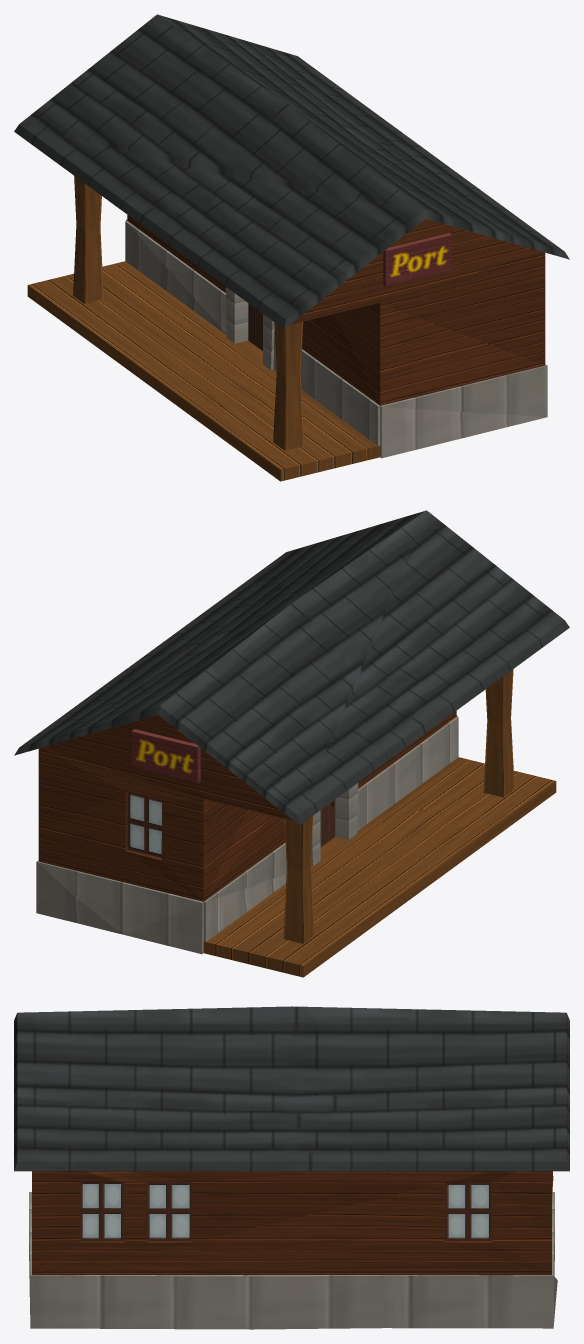
The model's file is co_Port.fbx.
The picture shows the model from 3 angles, top to bottom: view 1: azimuth 30°, elevation 25°; view 2: azimuth 150°, elevation 25°; view 3: azimuth 270°, elevation 25°; orthographic projection. The views are drawn at different scales.
Parts seen in each view (by area): view 1: Port_LOD0, PortSign2 (×2); view 2: Port_LOD0, PortSign1 (×2); view 3: Port_LOD0.
Boxes of the visible parts, box(x1,y1,x2,y2) form: Port_LOD0: box(14, 14, 569, 481); PortSign2 (×2): box(383, 233, 451, 286); Port_LOD0: box(14, 510, 569, 977); PortSign1 (×2): box(131, 729, 200, 783); Port_LOD0: box(14, 1006, 569, 1329).
Size of what is drawn, in the model's own units: 2433 by 2031 by 3985.
